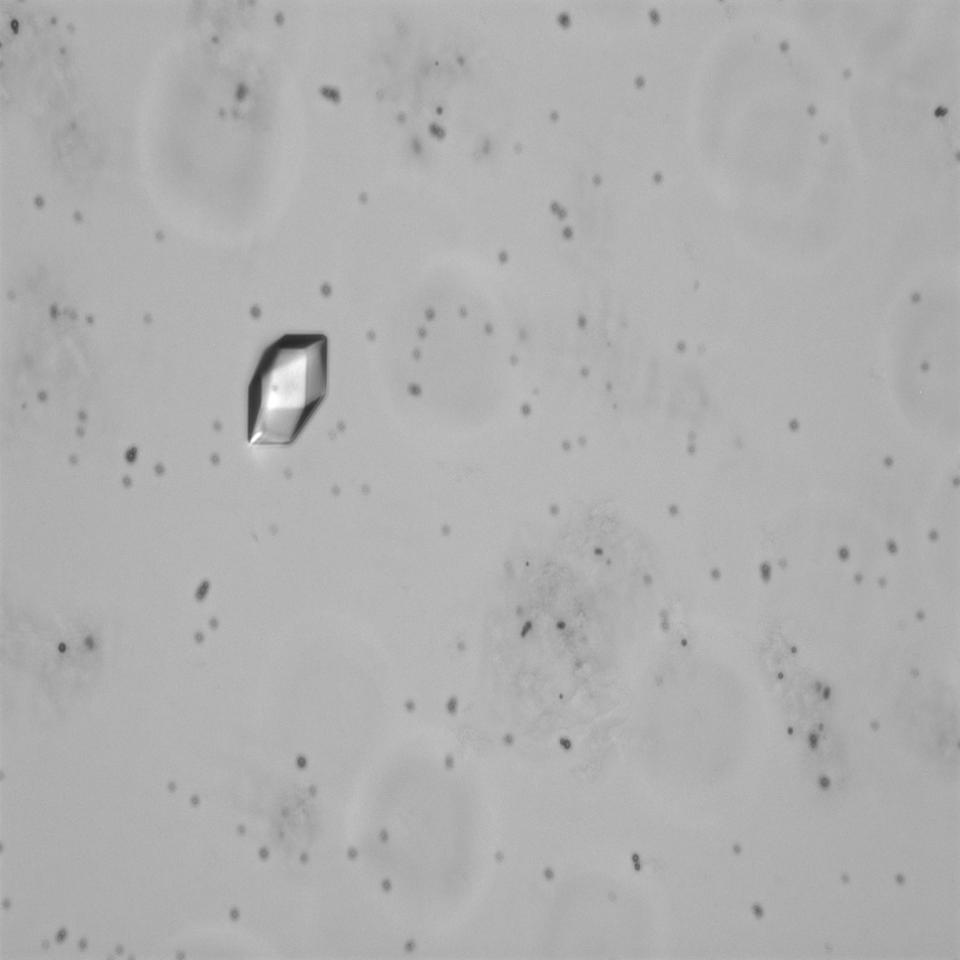crystal: (238, 325, 333, 449)
